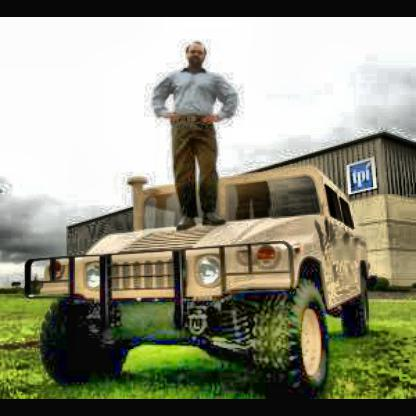AM General Hummer SUV 2000: (22, 171, 376, 394)
